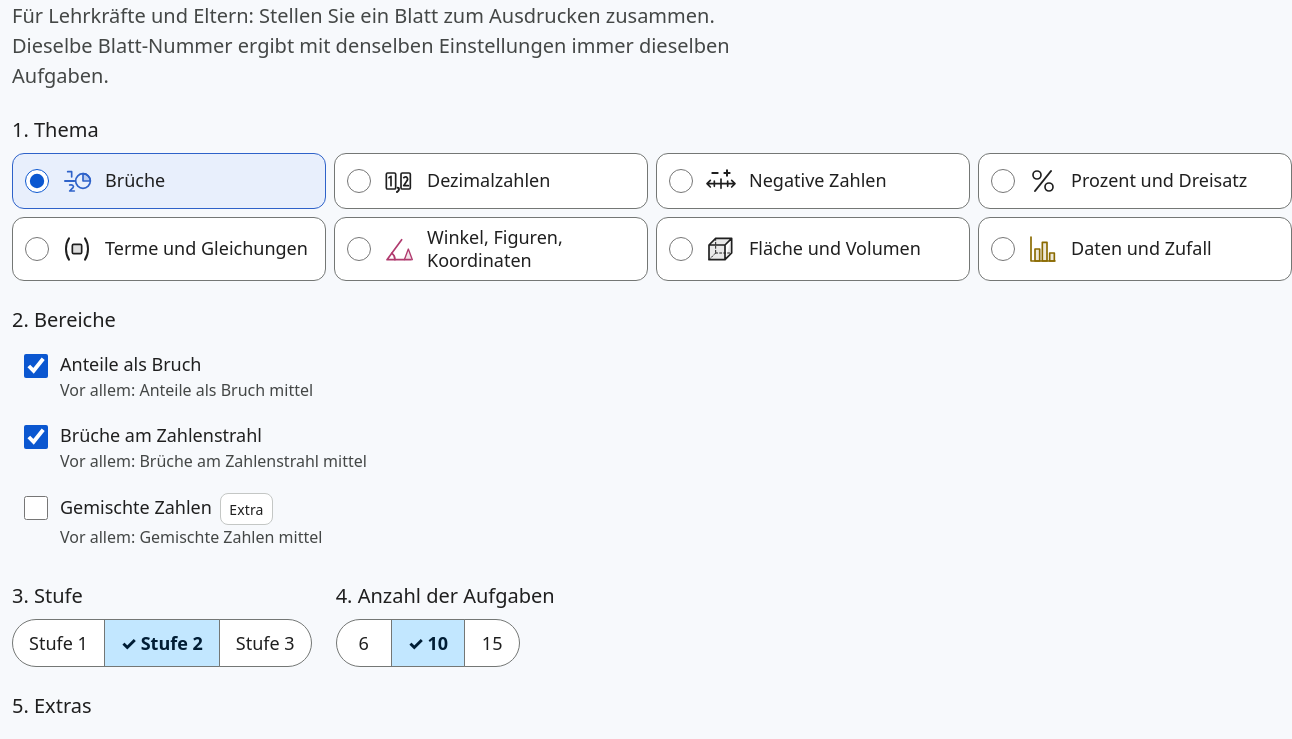
WorksheetPage › validates the inputs
The image size is (1292, 739).
Click the checkbox labelled "Anteile als Bruch Vor allem: Anteile als Bruch mittel". click: coordinates (36, 366)
box: x1=24 y1=354 x2=48 y2=378
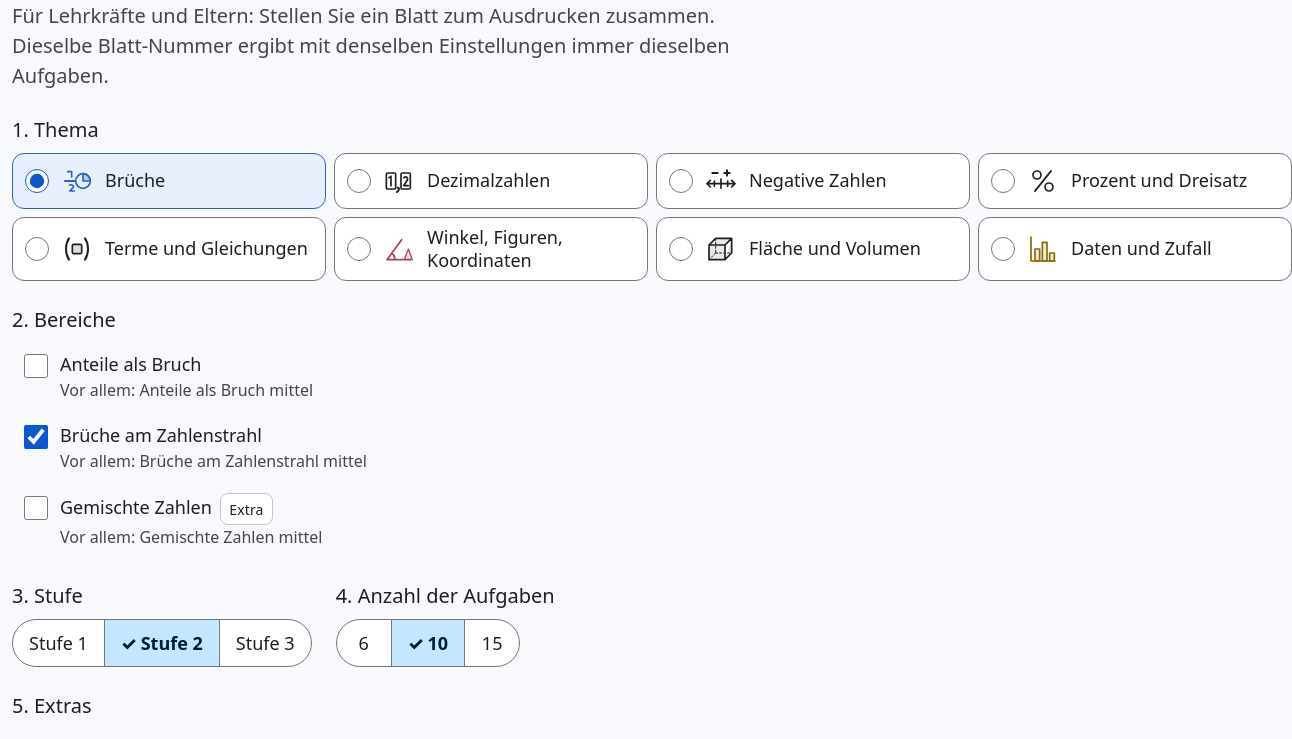
Click the checkbox labelled "Brüche am Zahlenstrahl". click: coordinates (36, 437)
box: x1=24 y1=425 x2=48 y2=449
(page scrolled)
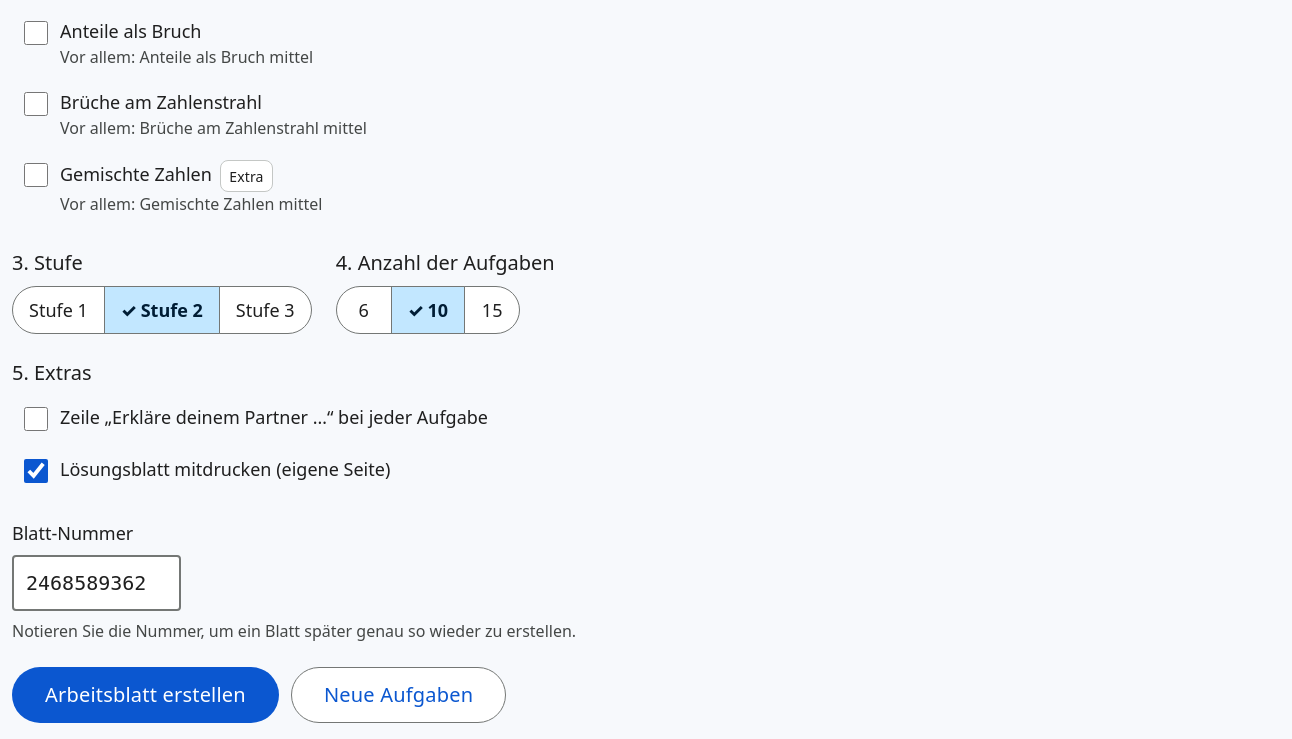
Replace the text in the field labelled "Blatt-Nummer" with "5". click: coordinates (96, 583)
box: x1=12 y1=555 x2=181 y2=611
Click the button "Arbeitsblatt erstellen". click: coordinates (145, 695)
box: x1=12 y1=667 x2=279 y2=723
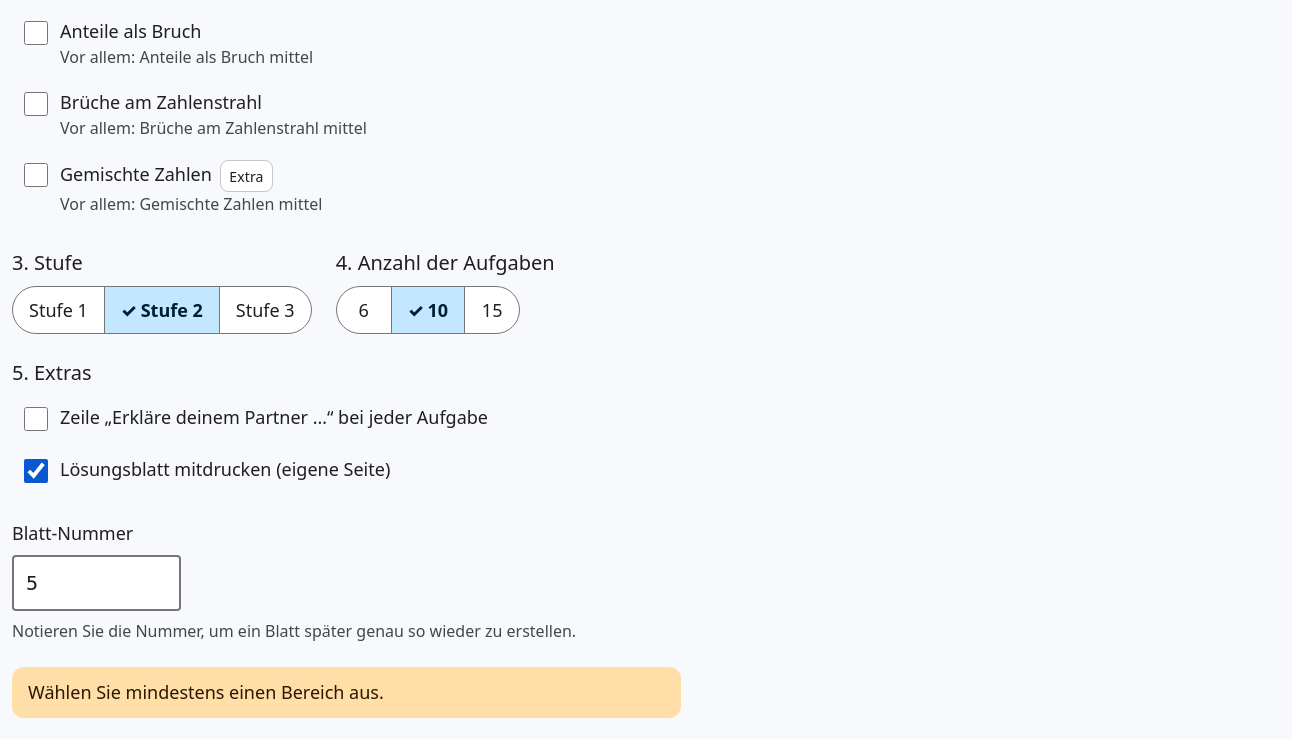
Now the text "Wählen Sie mindestens einen Bereich aus." is shown, box x1=12 y1=667 x2=681 y2=718
Click the checkbox labelled "Anteile als Bruch Vor allem: Anteile als Bruch mittel". click: coordinates (36, 33)
box: x1=24 y1=21 x2=48 y2=45
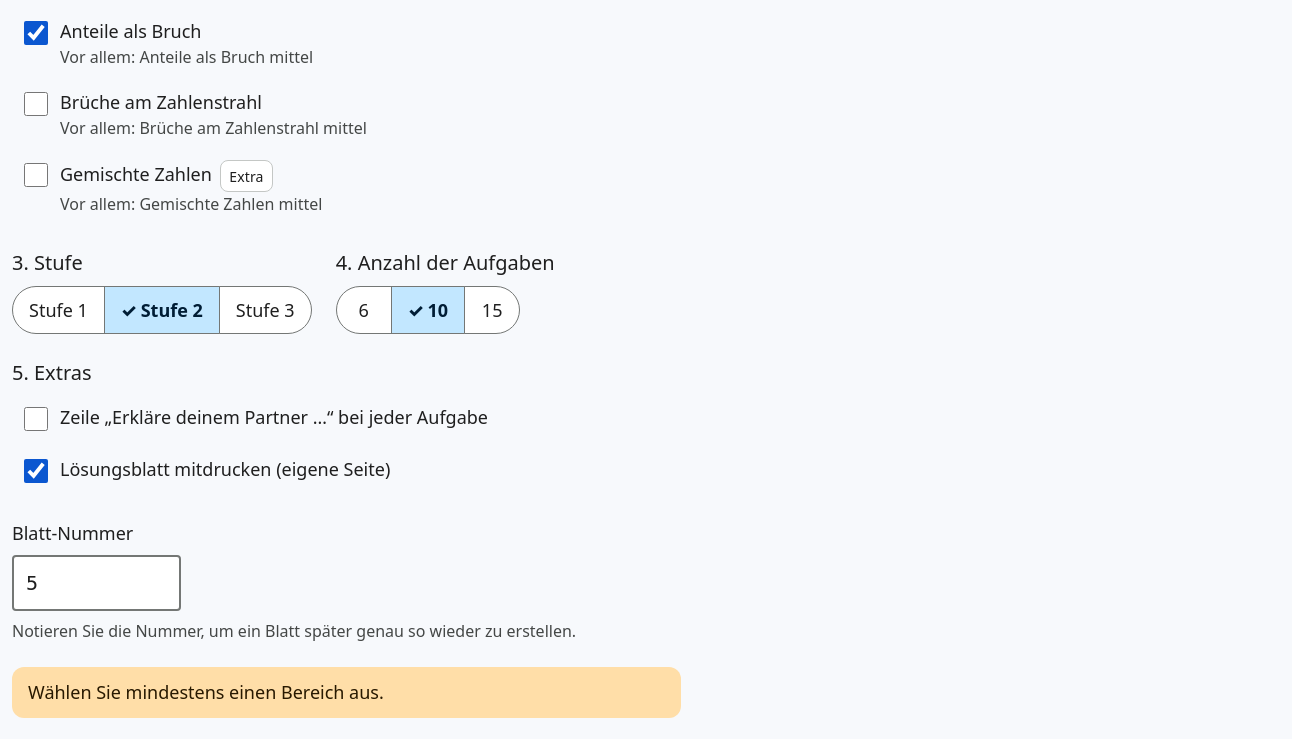
Replace the text in the field labelled "Blatt-Nummer" with "abc". click: coordinates (96, 583)
box: x1=12 y1=555 x2=181 y2=611
(page scrolled)
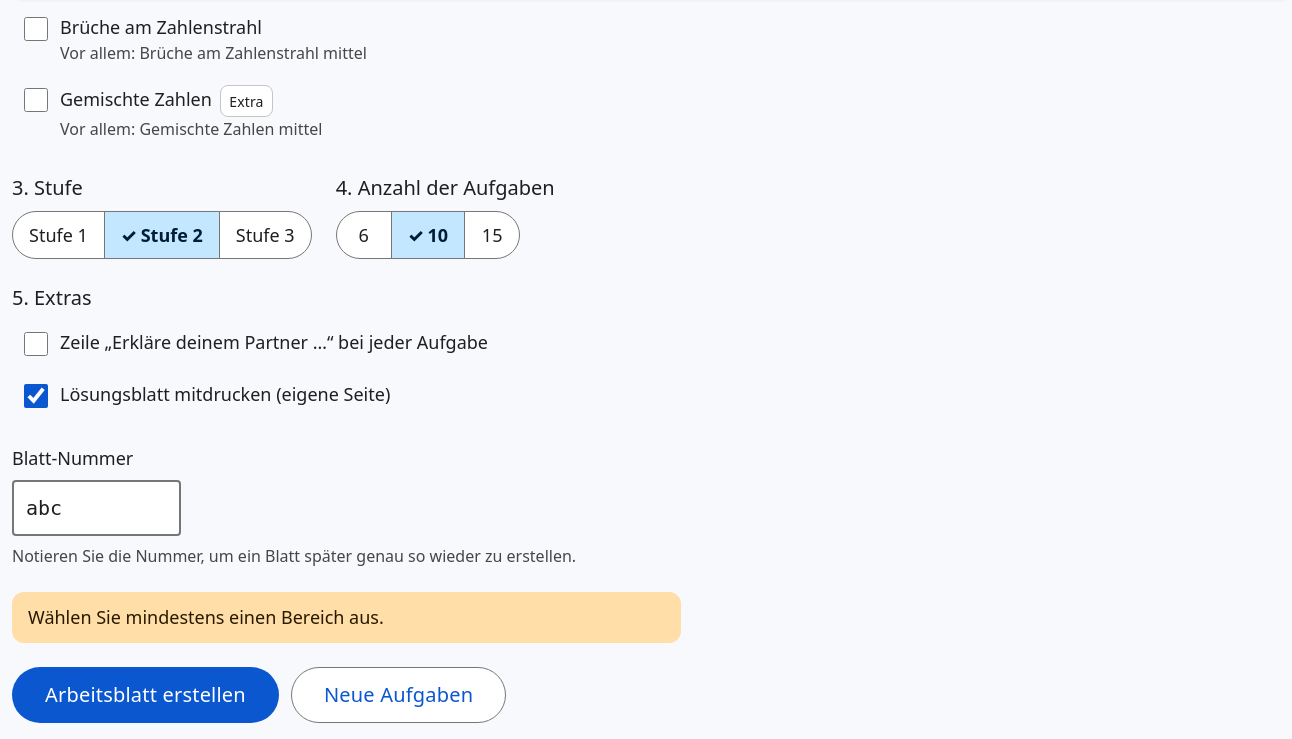
Click the button "Arbeitsblatt erstellen". click: coordinates (145, 695)
box: x1=12 y1=667 x2=279 y2=723
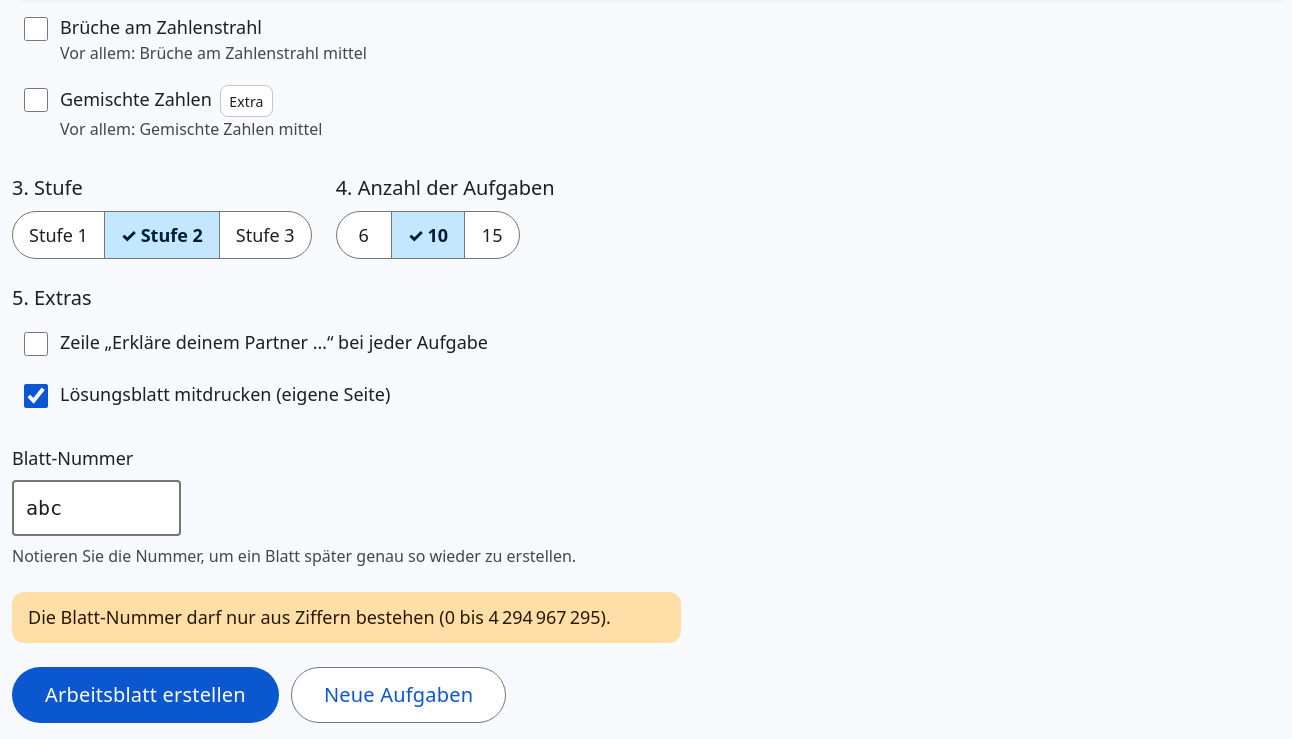
Now the text "Die Blatt-Nummer darf nur aus Ziffern bestehen (0 bis 4 294 967 295)." is shown, box x1=12 y1=592 x2=681 y2=643
